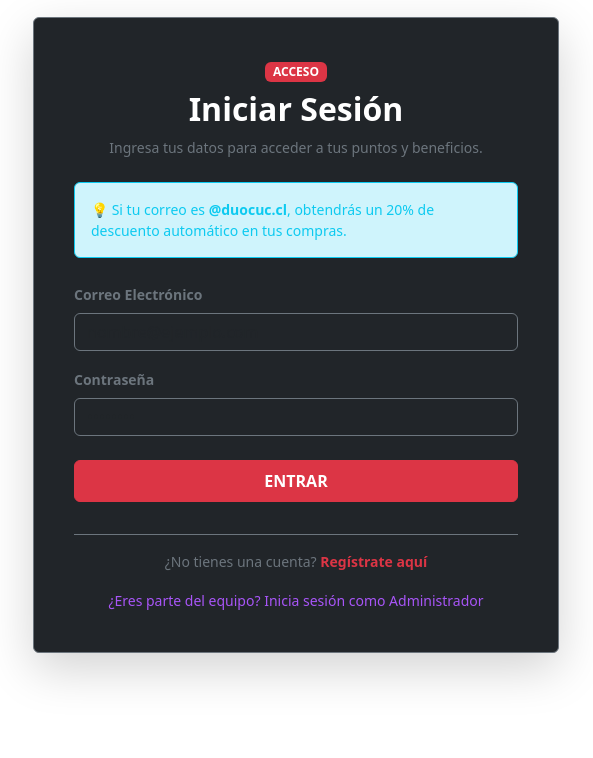
it: <Login /> › debe mostrar un error si las credenciales son incorrectas
Type "test@test.com" into the field with placeholder "nombre@ejemplo.com". click: (296, 332)
box: x1=74 y1=313 x2=518 y2=351
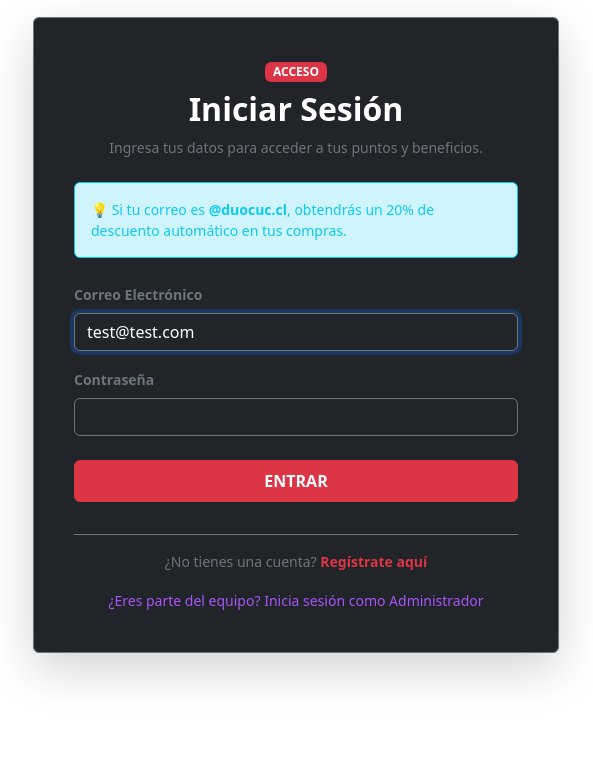
Type "clave123" into the password field with placeholder "••••••••". click: (296, 417)
box: x1=74 y1=398 x2=518 y2=436
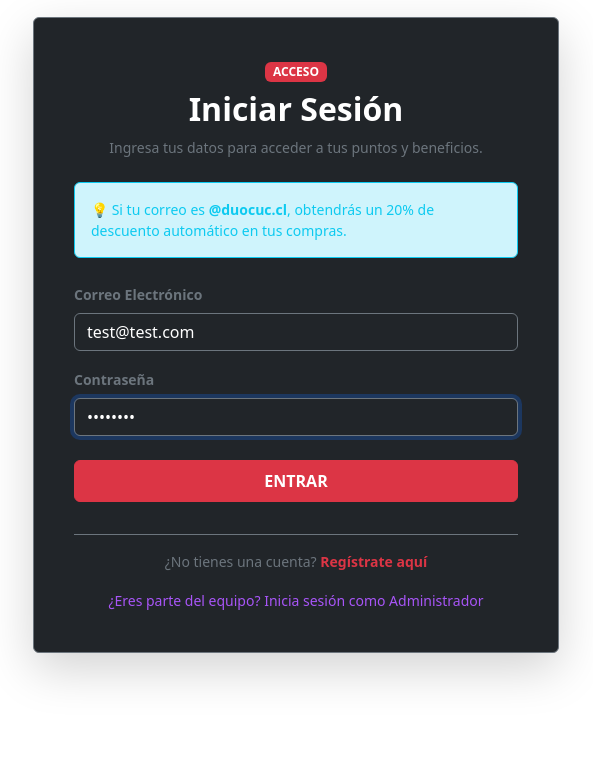
Click the button "Entrar". click: (296, 481)
box: x1=74 y1=460 x2=518 y2=502
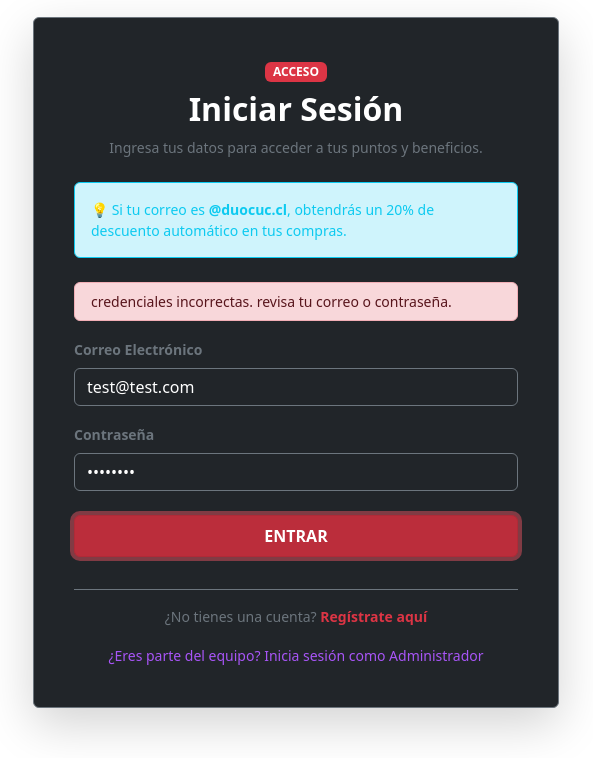
Now the text "credenciales incorrectas. revisa tu correo o contraseña." is shown, box x1=74 y1=282 x2=518 y2=321
